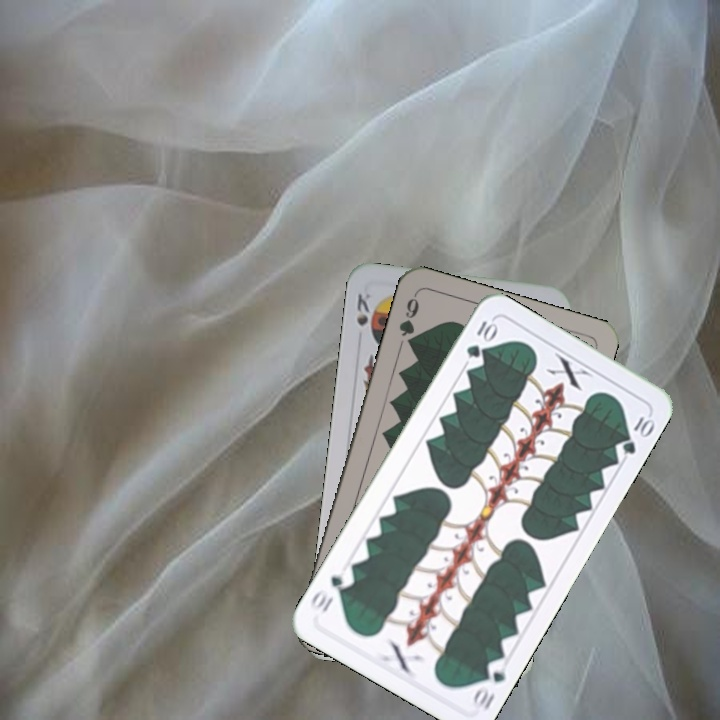G10: (467, 655, 510, 713), (462, 315, 499, 361)
G9: (395, 290, 422, 351)
SK: (352, 289, 373, 329)
